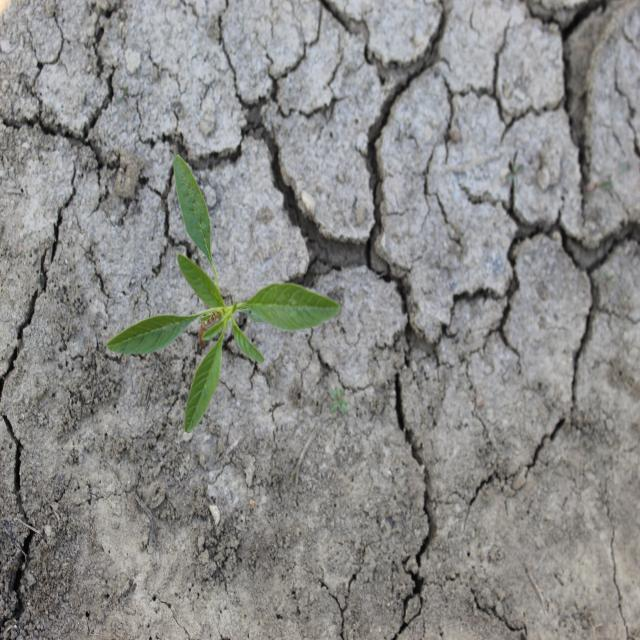Waterhemp: (105, 152, 342, 436)
